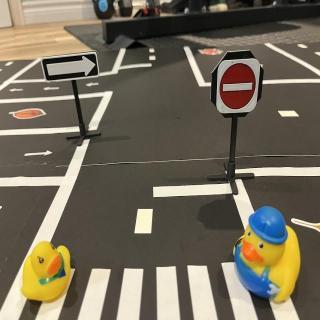duck_regular: (22, 243, 72, 305)
duck_specialty: (235, 208, 302, 306)
road_crosswalk: (36, 262, 301, 320)
road_oneway: (23, 150, 55, 160), (43, 86, 62, 94), (85, 82, 102, 90), (9, 87, 25, 95)
sign_noentry: (216, 58, 262, 114)
sign_oneway_right: (42, 53, 100, 83)
